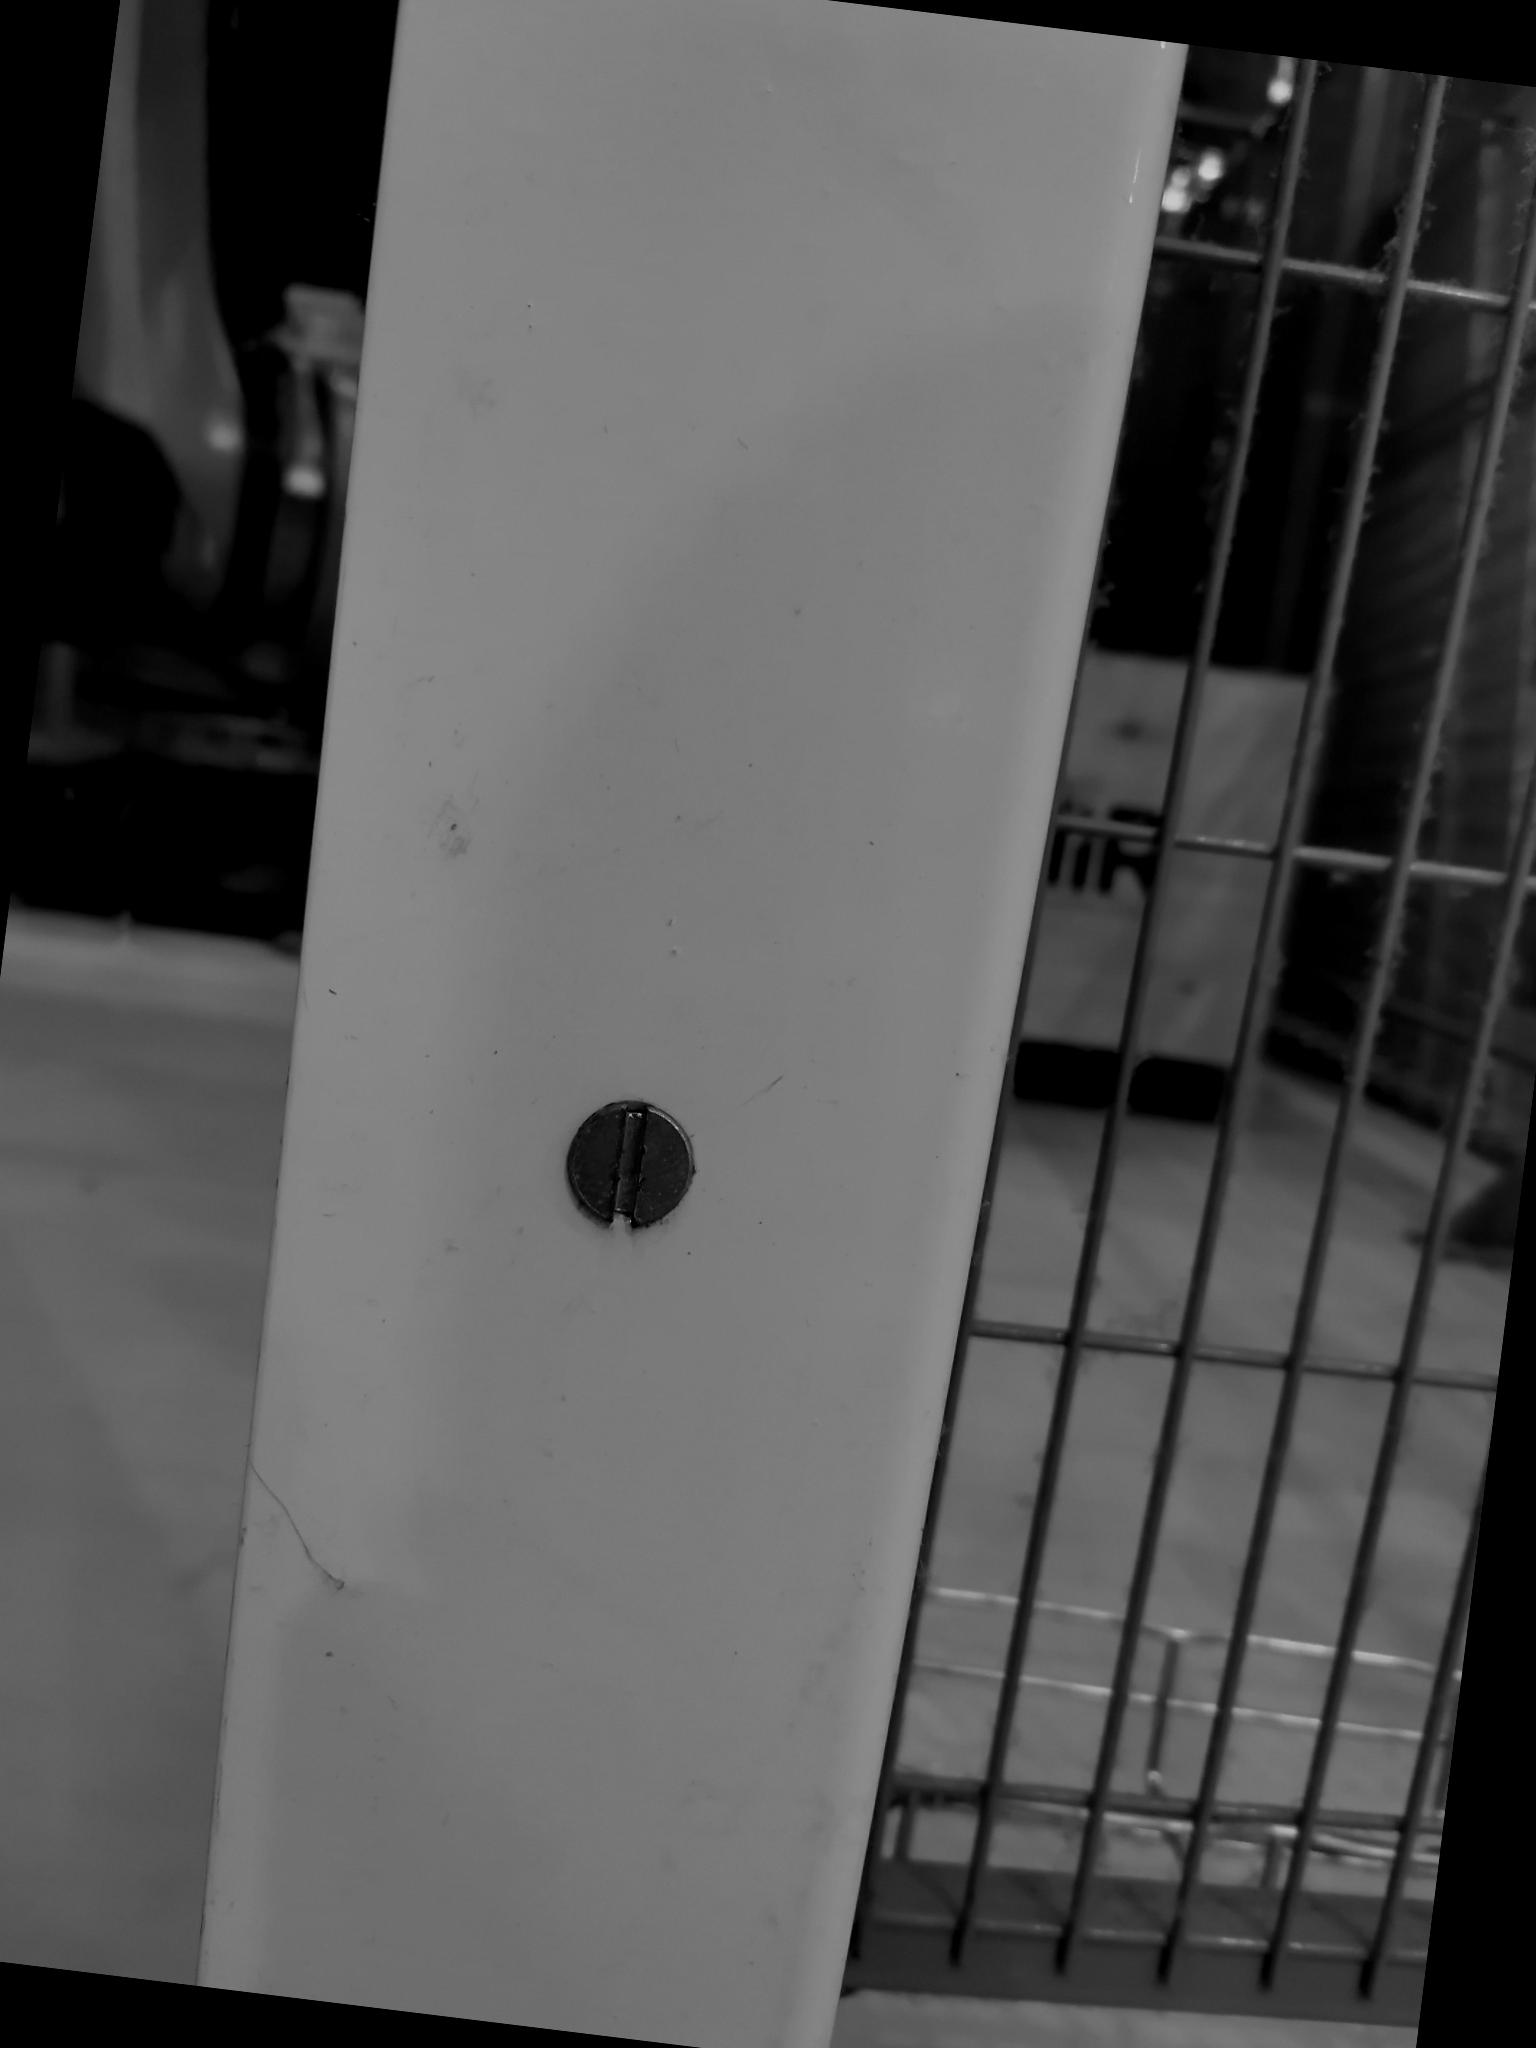screw: (552, 1098, 712, 1251)
